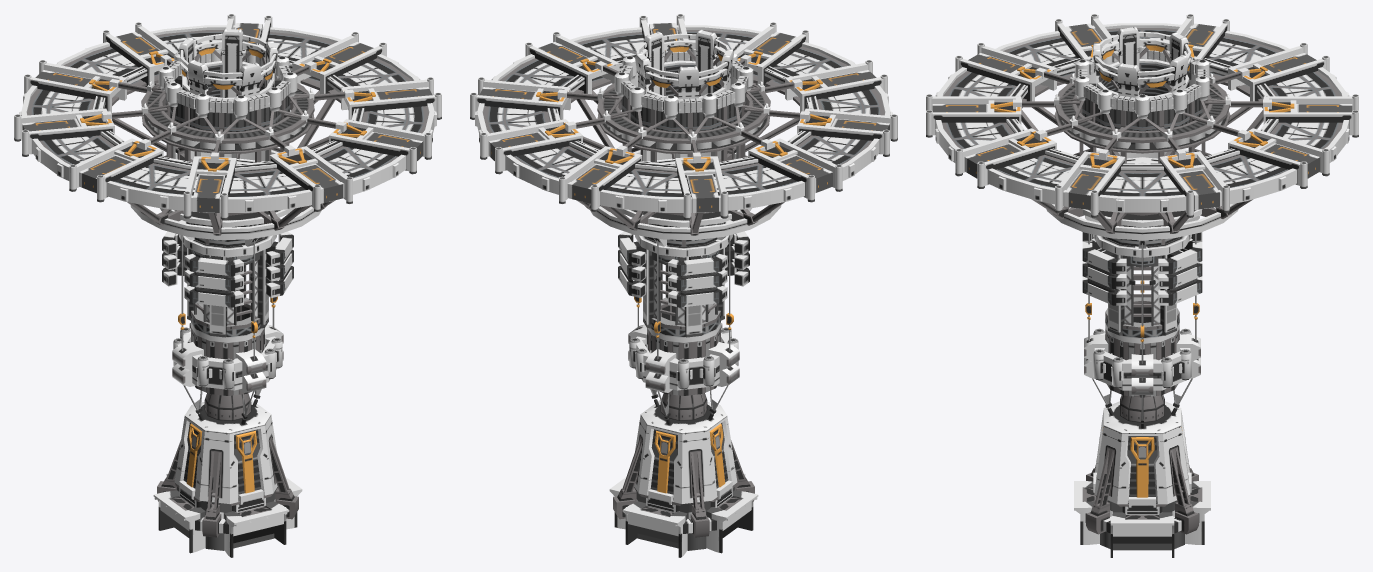
File: interstellar-logistic-station.glb
The picture shows the model from 3 angles, left to right: view 1: azimuth 30°, elevation 25°; view 2: azimuth 150°, elevation 25°; view 3: azimuth 270°, elevation 25°; orthographic projection.
Parts seen in each view (by area): view 1: interstellar-logistic-station-1, interstellar-logistic-station-2-3, interstellar-logistic-station-2-1, interstellar-logistic-station-2-4, interstellar-logistic-station-2-2; view 2: interstellar-logistic-station-1, interstellar-logistic-station-2-4, interstellar-logistic-station-2-3, interstellar-logistic-station-2-2; view 3: interstellar-logistic-station-1, interstellar-logistic-station-2-2, interstellar-logistic-station-2-1, interstellar-logistic-station-2-4, interstellar-logistic-station-2-3.
Boxes of the visible parts, x1,y1,x2,y2 form: interstellar-logistic-station-1: (14,14,441,420); interstellar-logistic-station-2-3: (153,235,250,553); interstellar-logistic-station-2-1: (224,231,298,557); interstellar-logistic-station-2-4: (157,220,207,501); interstellar-logistic-station-2-2: (251,296,302,529); interstellar-logistic-station-1: (470,14,897,420); interstellar-logistic-station-2-4: (622,238,727,557); interstellar-logistic-station-2-3: (704,220,758,553); interstellar-logistic-station-2-2: (609,231,672,544); interstellar-logistic-station-1: (926,14,1358,422); interstellar-logistic-station-2-2: (1110,240,1202,557); interstellar-logistic-station-2-1: (1074,215,1142,550); interstellar-logistic-station-2-4: (1165,215,1210,544); interstellar-logistic-station-2-3: (1082,232,1144,481).
Size of the model in its own units: 27.94 by 35.25 by 28.49.
2 materials, 1 textured.
